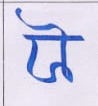au_matra: (20, 9, 57, 76)
